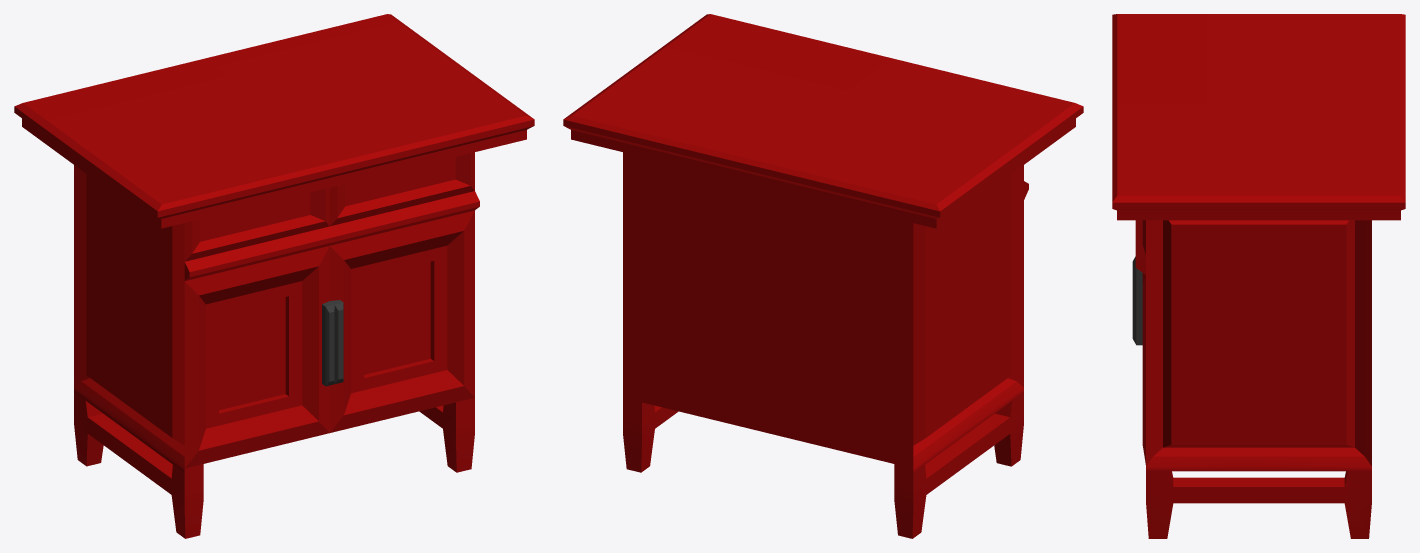
Rendered from Drawer 1.fbx.
3 views of the same model, side by side, from view 1: azimuth 30°, elevation 25°; view 2: azimuth 150°, elevation 25°; view 3: azimuth 270°, elevation 25° (orthographic). The views are drawn at different scales.
Visible parts, largest first — view 1: polySurface1; view 2: polySurface1; view 3: polySurface1.
Part boxes in pixels (box(x1,y1,x2,y2)): polySurface1: box(14, 14, 534, 538); polySurface1: box(563, 14, 1083, 538); polySurface1: box(1112, 14, 1405, 538).
Size of the model in its own units: 7.99 by 7.21 by 5.27.
